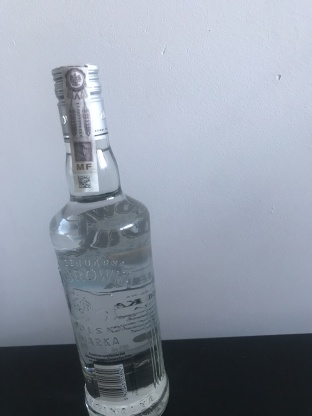nakretka: (49, 60, 110, 146)
